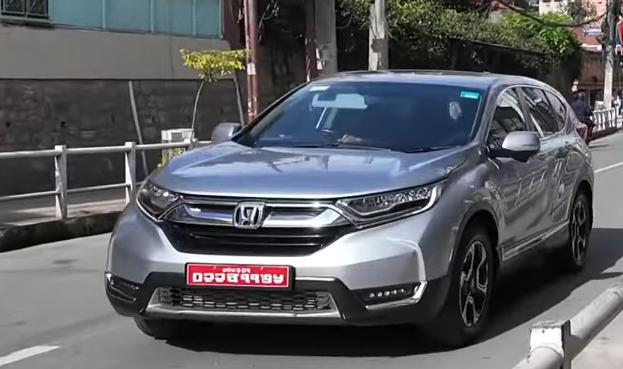car: (104, 68, 594, 344)
